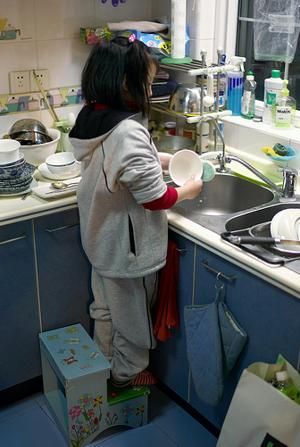person: (71, 38, 204, 388)
